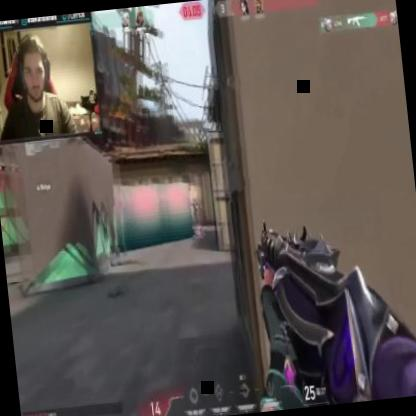enemy: (190, 195, 204, 232)
enemy_head: (192, 197, 196, 202)
